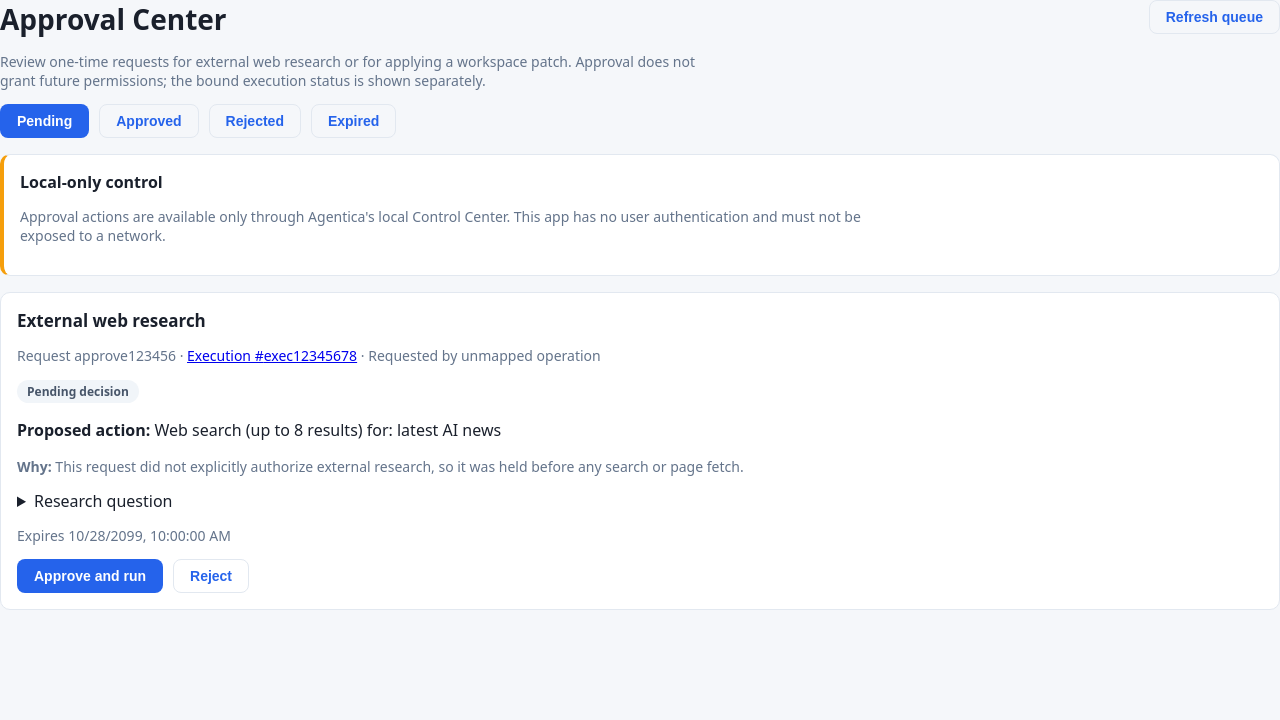
Test: Approval Center › rejects then reports that external research did not run
The image size is (1280, 720).
Click the button "Reject" at (211, 576), box [173,559,249,593]
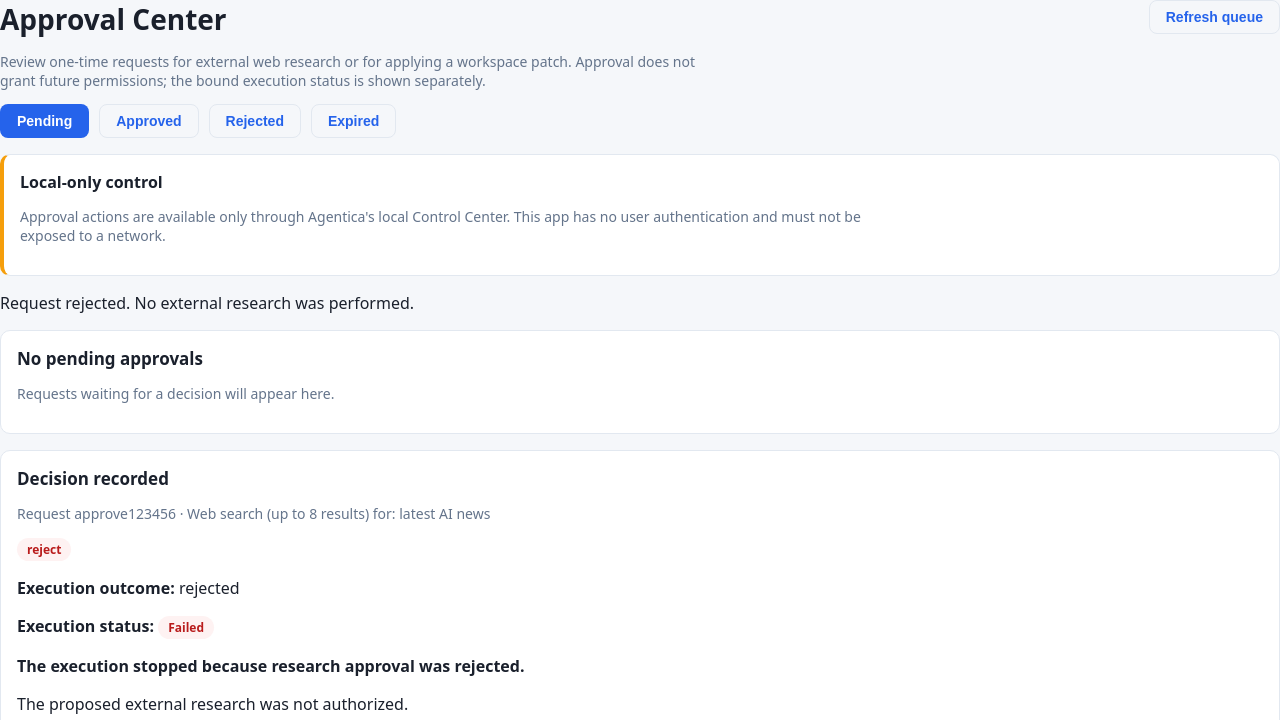
Expected: the button "Rejected" is shown, [209,104,301,138]
Expected: the text "Request rejected. No external research was performed." is shown, [0,292,414,314]
Expected: the text "execution stopped because research approval was rejected" is shown, [17,655,524,677]
